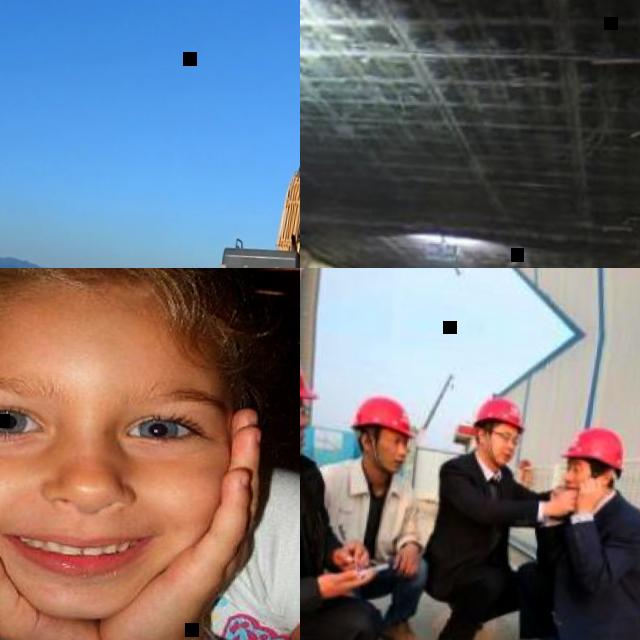Hardhat: (347, 392, 422, 443), (560, 424, 632, 472), (300, 309, 327, 402), (470, 395, 530, 436)
NO-Hardhat: (0, 268, 247, 380)
NO-Mask: (0, 432, 232, 629), (368, 445, 406, 467), (486, 442, 514, 465), (565, 474, 595, 495)
NO-Safety Vest: (0, 435, 300, 640), (311, 463, 421, 559), (548, 495, 640, 608), (437, 462, 525, 558), (300, 449, 328, 610)
Person: (0, 268, 300, 640), (416, 389, 583, 640), (303, 386, 442, 640), (300, 307, 403, 640), (521, 421, 640, 640)
vehicle: (178, 131, 300, 268)
